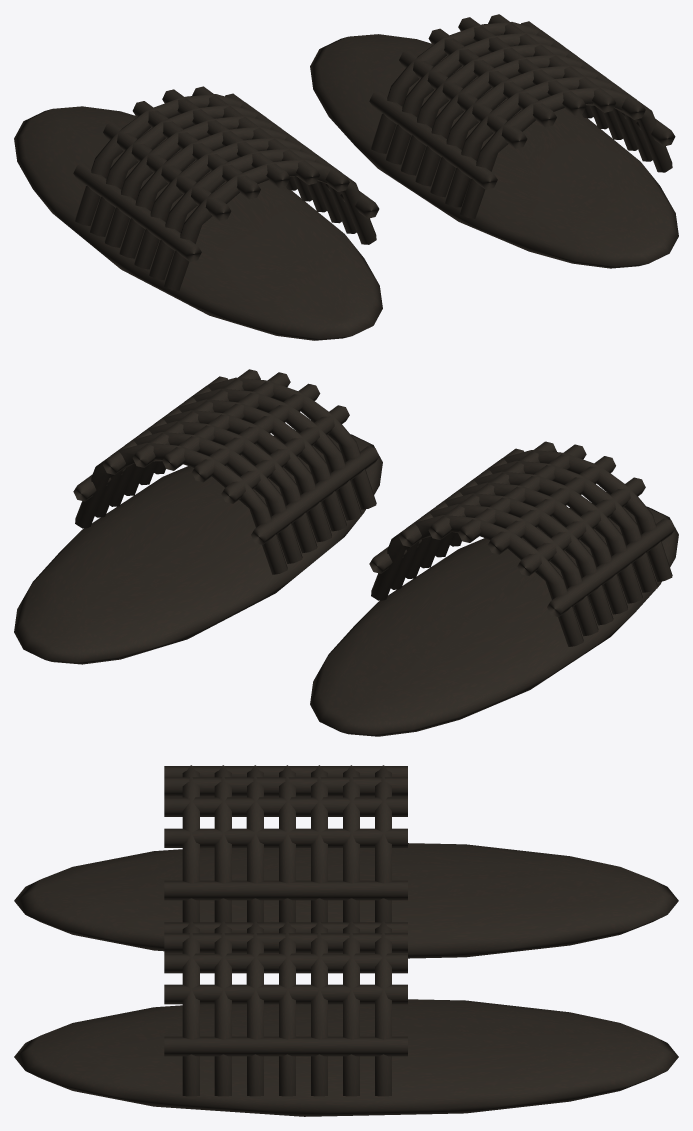
The model's file is dep_to_ong.glb.
3 renders of one model, top to bottom at view 1: azimuth 30°, elevation 25°; view 2: azimuth 150°, elevation 25°; view 3: azimuth 270°, elevation 25°, orthographic. The views are drawn at different scales.
Parts seen in each view (by area): view 1: dep_to_ong.001; view 2: dep_to_ong.001; view 3: dep_to_ong.001.
Boxes of the visible parts, x1=… form: dep_to_ong.001: x1=14, y1=14, x2=678, y2=340; dep_to_ong.001: x1=14, y1=369, x2=678, y2=736; dep_to_ong.001: x1=14, y1=765, x2=678, y2=1116.
Size of the model in its own units: 0.2575 by 0.067 by 0.27.
Materials: 1 (1 with a texture image).
